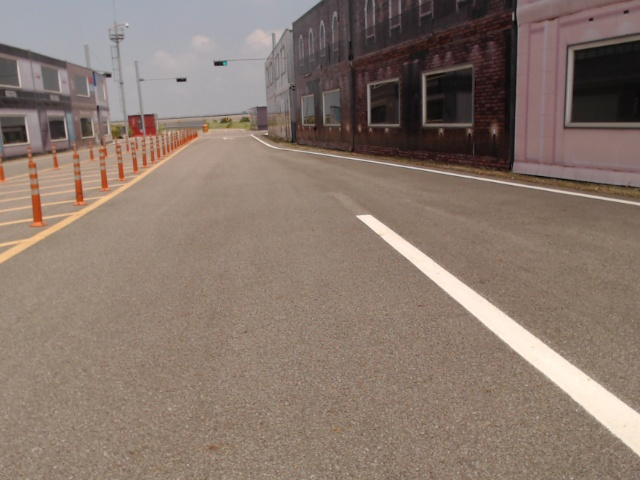green_3: (213, 60, 228, 67)
